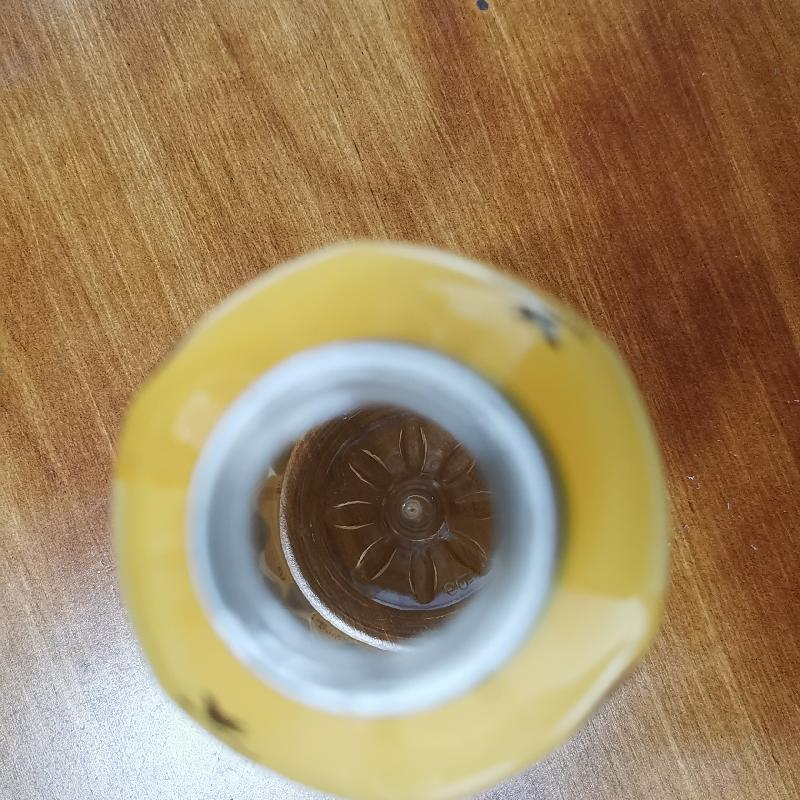bottles: (104, 234, 677, 799)
